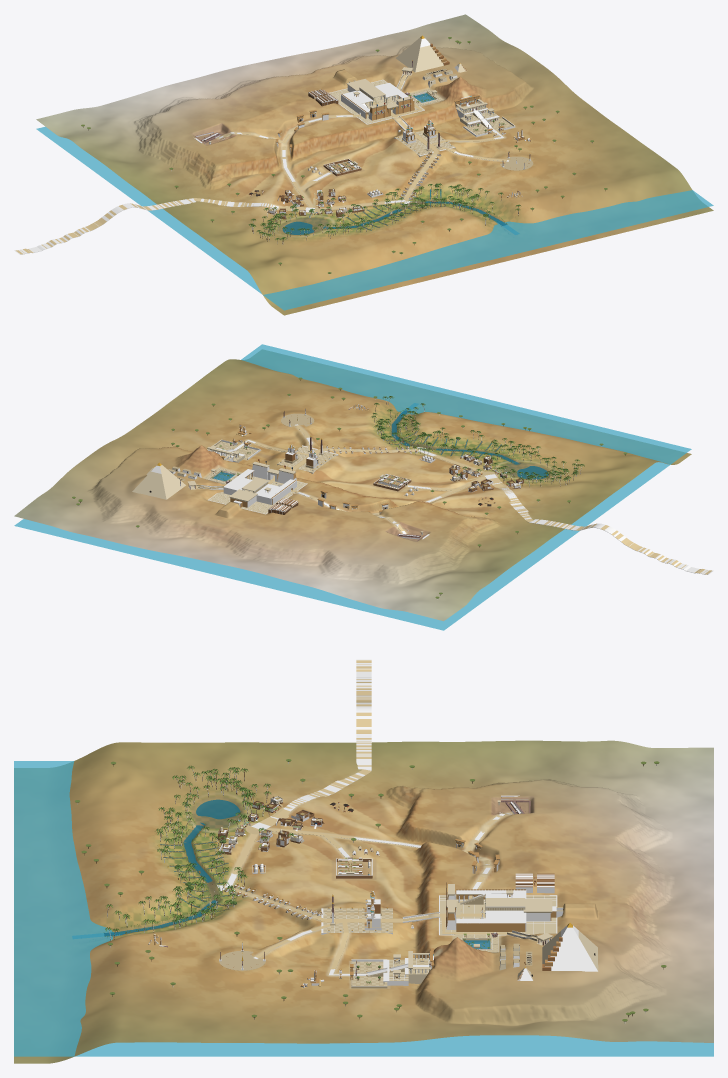
Rendered from world_egypt.glb.
3 views of the same model, one above another, from view 1: azimuth 30°, elevation 25°; view 2: azimuth 150°, elevation 25°; view 3: azimuth 270°, elevation 25° (orthographic). The views are drawn at different scales.
Visible parts, largest first — view 1: Terrain, Water, COL_Props, egypt_Palms_Leaves, egypt_Routes, egypt_SunTemple, egypt_CliffTemple, egypt_Pyramid, egypt_Water, egypt_Colossi, egypt_OasisTown, egypt_Palms_Trunks; view 2: Terrain, Water, COL_Props, egypt_Palms_Leaves, egypt_Routes, egypt_SunTemple, egypt_Pyramid, egypt_Water, egypt_OasisTown, egypt_Colossi, egypt_CliffTemple; view 3: Terrain, Water, COL_Props, egypt_Palms_Leaves, egypt_Routes, egypt_SunTemple, egypt_Water, egypt_CliffTemple, egypt_OasisTown, egypt_Colossi, egypt_Pyramid, egypt_Palms_Trunks (+3 smaller).
Part boxes in pixels (x1,y1,x2,y2): Terrain: (36, 14, 713, 315); Water: (36, 95, 713, 310); COL_Props: (14, 38, 592, 275); egypt_Palms_Leaves: (81, 37, 607, 273); egypt_Routes: (15, 75, 506, 254); egypt_SunTemple: (329, 79, 423, 132); egypt_CliffTemple: (454, 95, 514, 135); egypt_Pyramid: (396, 35, 449, 90); egypt_Water: (282, 93, 518, 234); egypt_Colossi: (395, 119, 455, 157); egypt_OasisTown: (268, 188, 364, 219); egypt_Palms_Trunks: (83, 42, 605, 265); Terrain: (14, 349, 691, 621); Water: (14, 344, 691, 630); COL_Props: (73, 396, 713, 599); egypt_Palms_Leaves: (72, 377, 627, 598); egypt_Routes: (197, 425, 711, 574); egypt_SunTemple: (209, 459, 306, 513); egypt_Pyramid: (132, 462, 223, 499); egypt_Water: (213, 403, 548, 480); egypt_OasisTown: (449, 454, 523, 492); egypt_Colossi: (277, 436, 336, 473); egypt_CliffTemple: (207, 438, 259, 462); Terrain: (14, 740, 713, 1063); Water: (14, 761, 713, 1056); COL_Props: (77, 659, 656, 1023); egypt_Palms_Leaves: (75, 759, 666, 1021); egypt_Routes: (225, 660, 538, 969); egypt_SunTemple: (408, 882, 556, 934); egypt_Water: (72, 799, 490, 948); egypt_CliffTemple: (339, 948, 434, 988); egypt_OasisTown: (218, 796, 324, 854); egypt_Colossi: (321, 890, 392, 932); egypt_Pyramid: (507, 923, 598, 970); egypt_Palms_Trunks: (84, 764, 663, 1019).
Size of the model in its own units: 960 by 86.5 by 720.
